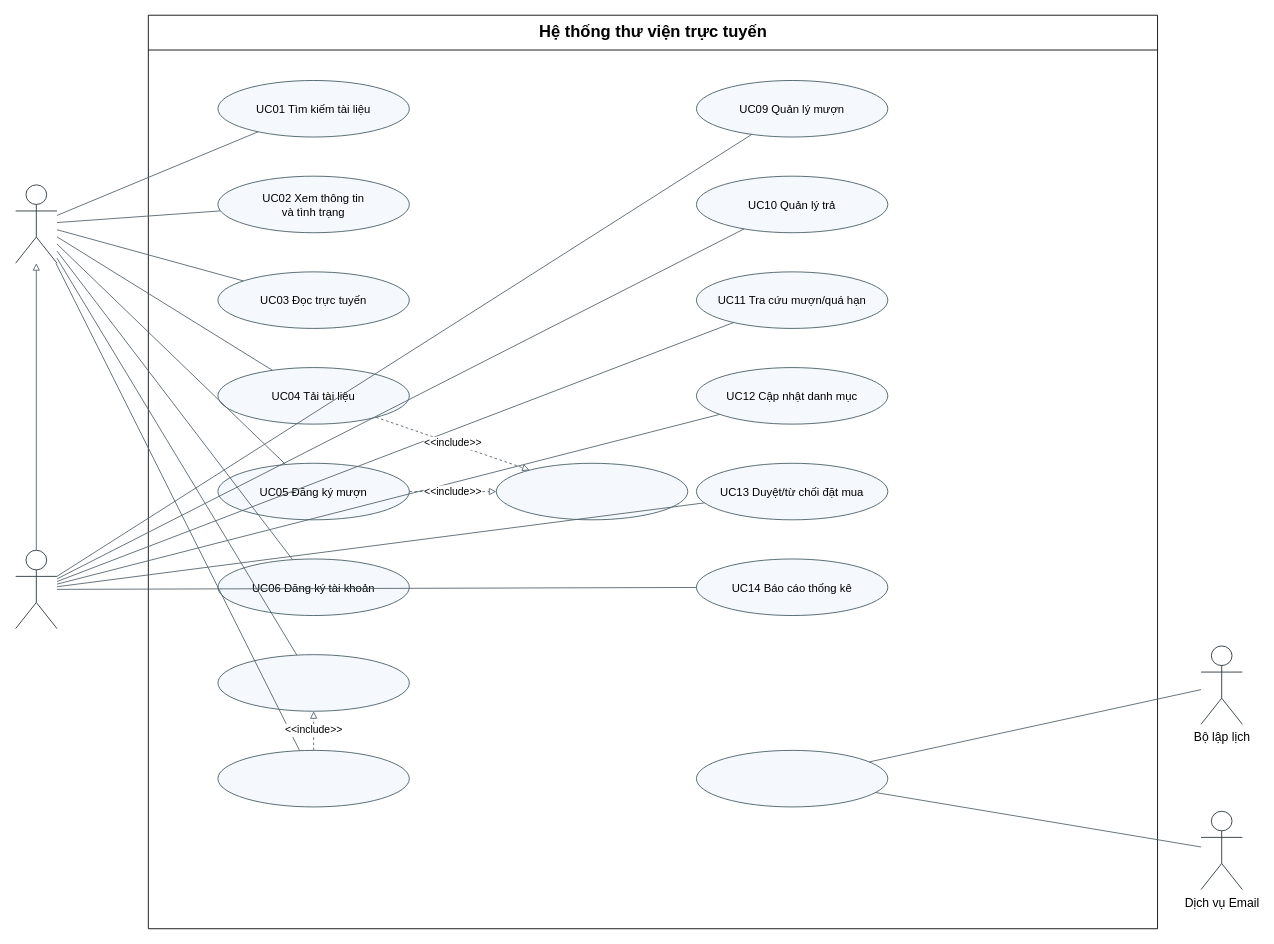
Some shapes in this 1274 by 944 pixel diagram are drawn without their labels. Each missing label, with the box of its shape:
Kiểm tra mã thẻ: (495, 462, 688, 520)
Thủ thư: (15, 549, 57, 629)
UC07 Đăng nhập: (217, 654, 409, 711)
UC08 Yêu cầu đặt mua: (217, 750, 409, 807)
UC15 Gửi email nhắc trả: (696, 750, 888, 807)
Độc giả: (15, 184, 57, 263)
